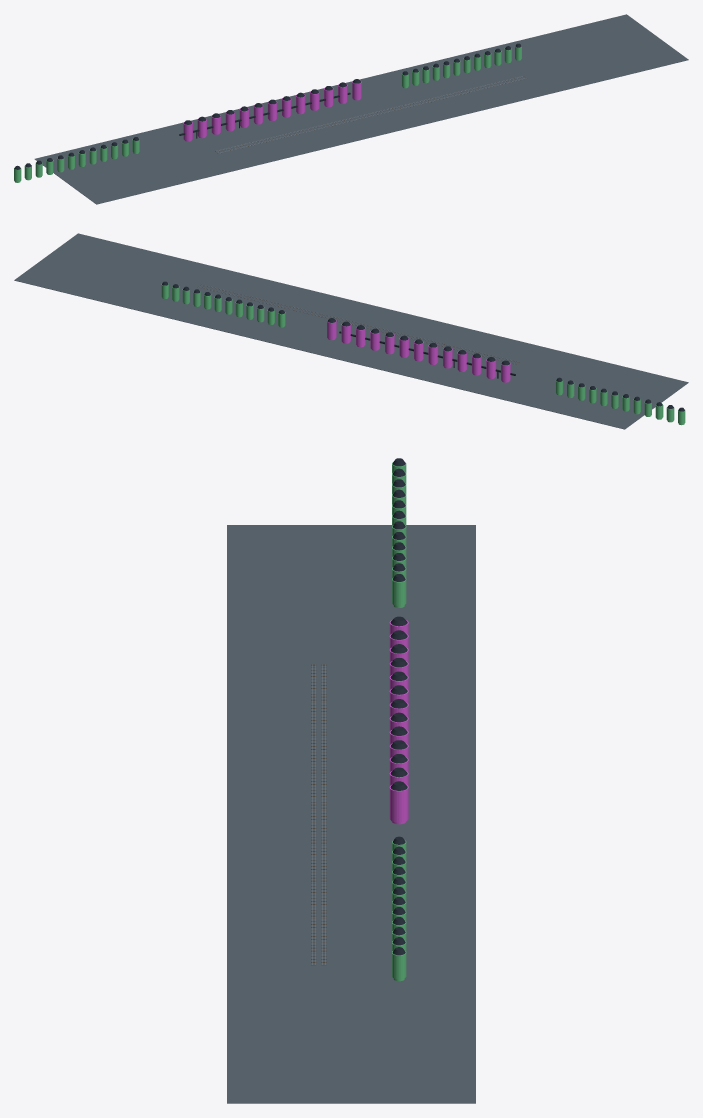
Rendered from ash-core-v2-medium.glb.
3 views of the same model, one above another, from view 1: azimuth 30°, elevation 25°; view 2: azimuth 150°, elevation 25°; view 3: azimuth 270°, elevation 25° (orthographic). The views are drawn at different scales.
Parts seen in each view (by area): view 1: ash_line_apron.001; view 2: ash_line_apron.001; view 3: ash_line_apron.001.
Boxes of the visible parts, x1=… form: ash_line_apron.001: x1=34, y1=14, x2=688, y2=204; ash_line_apron.001: x1=14, y1=233, x2=688, y2=429; ash_line_apron.001: x1=227, y1=525, x2=475, y2=1103.
Bounding box in the file's own units: 704 × 20.28 × 120.
